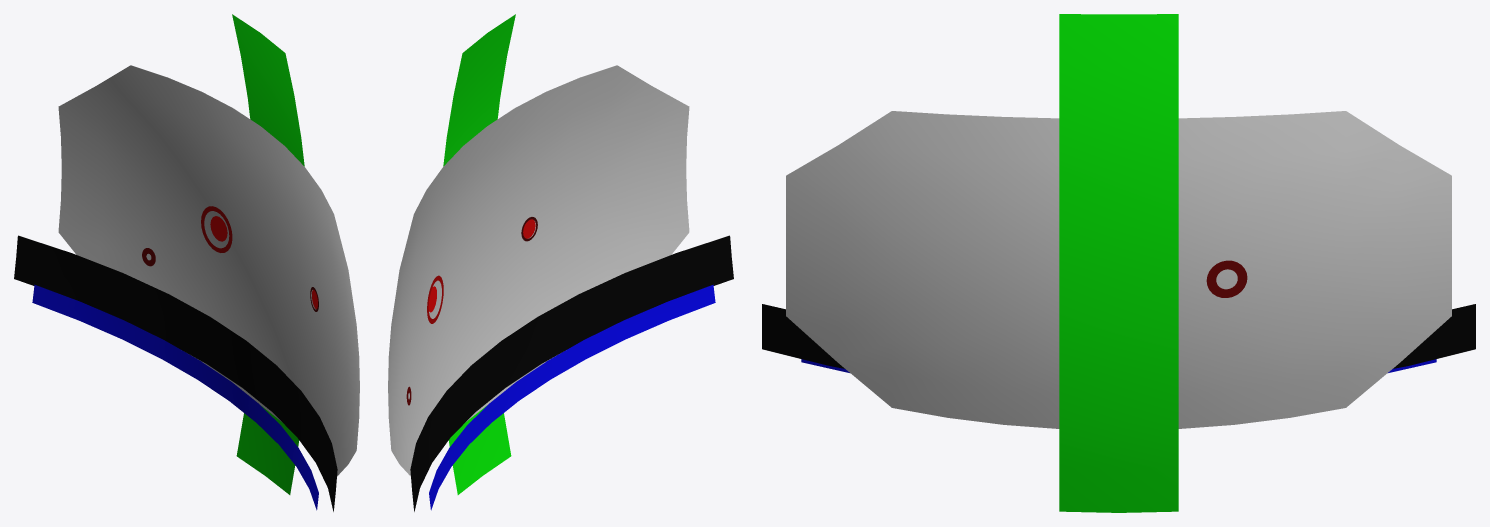
Rendered from SM_Holo_Display_01.fbx.
The picture shows the model from 3 angles, left to right: view 1: azimuth 30°, elevation 25°; view 2: azimuth 150°, elevation 25°; view 3: azimuth 270°, elevation 25°; orthographic projection. The views are drawn at different scales.
Visible parts, largest first — view 1: SM_Holo_Display_01; view 2: SM_Holo_Display_01; view 3: SM_Holo_Display_01.
Boxes of the visible parts, x1=… form: SM_Holo_Display_01: x1=14, y1=14, x2=359, y2=511; SM_Holo_Display_01: x1=388, y1=14, x2=733, y2=511; SM_Holo_Display_01: x1=762, y1=14, x2=1475, y2=512.
Bounding box in the file's own units: 20.85 × 103 × 78.94.
